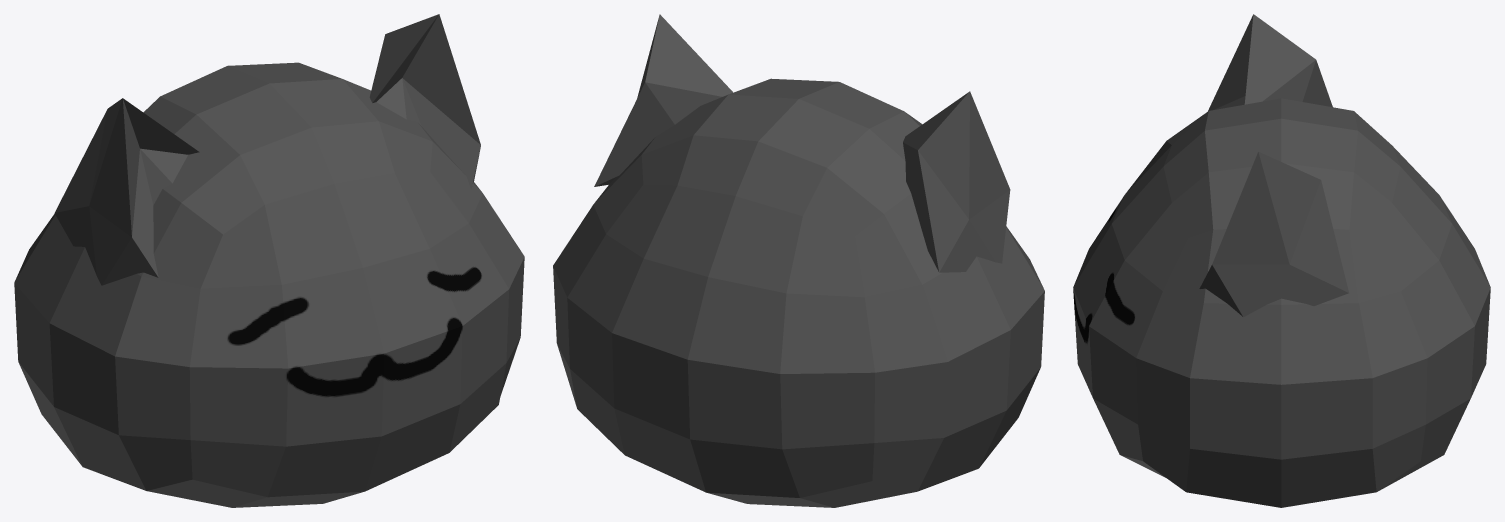
File: Enemy_cat.glb
The picture shows the model from 3 angles, left to right: view 1: azimuth 30°, elevation 25°; view 2: azimuth 150°, elevation 25°; view 3: azimuth 270°, elevation 25°; orthographic projection. The views are drawn at different scales.
Parts seen in each view (by area): view 1: Cube.002; view 2: Cube.002; view 3: Cube.002.
Part boxes in pixels (x1,y1,x2,y2): Cube.002: [14, 14, 524, 507]; Cube.002: [553, 14, 1044, 507]; Cube.002: [1073, 14, 1490, 507].
Bounding box in the file's own units: 2.01 × 1.91 × 1.82.
Materials: 2 (2 with a texture image).
